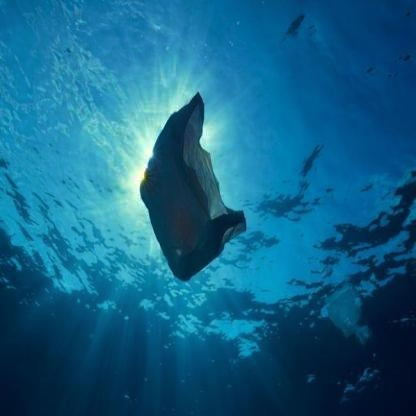pbag: (129, 86, 252, 286)
